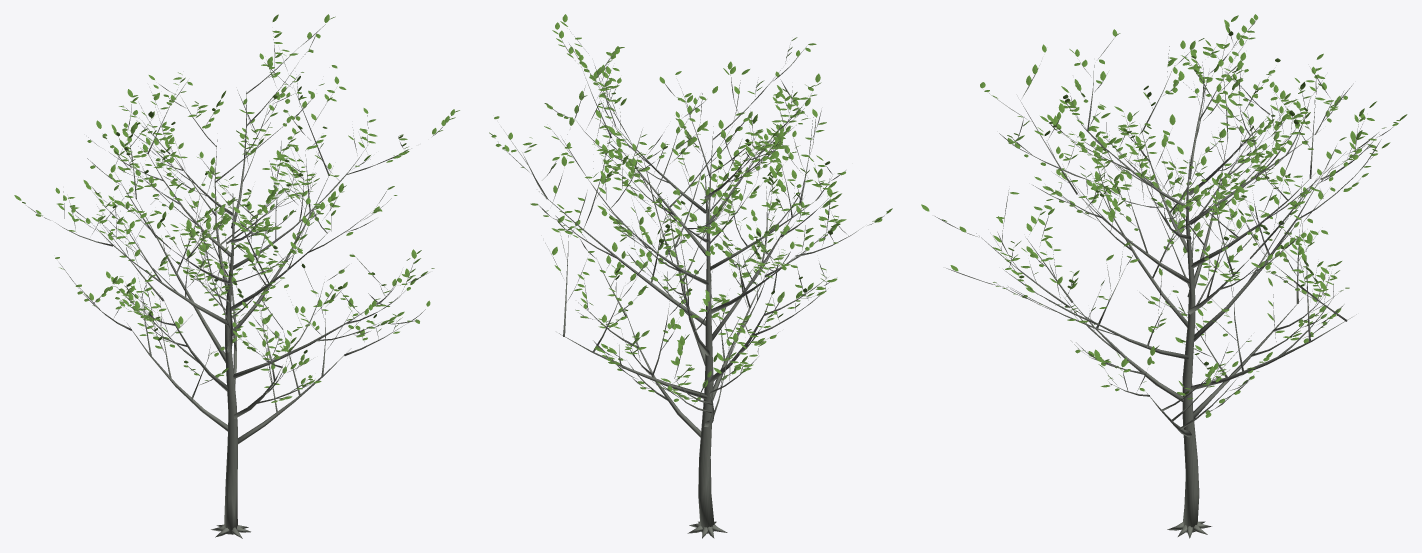
The model's file is Beech_Mature_02_Unpruned_LOD2.fbx.
3 views of the same model, side by side, from view 1: azimuth 30°, elevation 25°; view 2: azimuth 150°, elevation 25°; view 3: azimuth 270°, elevation 25° (orthographic). The views are drawn at different scales.
Parts seen in each view (by area): view 1: Beech_Mature_02_Unpruned_LOD2; view 2: Beech_Mature_02_Unpruned_LOD2; view 3: Beech_Mature_02_Unpruned_LOD2.
Boxes of the visible parts, x1=… form: Beech_Mature_02_Unpruned_LOD2: x1=14, y1=14, x2=459, y2=538; Beech_Mature_02_Unpruned_LOD2: x1=489, y1=14, x2=892, y2=538; Beech_Mature_02_Unpruned_LOD2: x1=921, y1=14, x2=1407, y2=538.
Bounding box in the file's own units: 1936 × 2301 × 1926.
2 materials, 1 textured.
